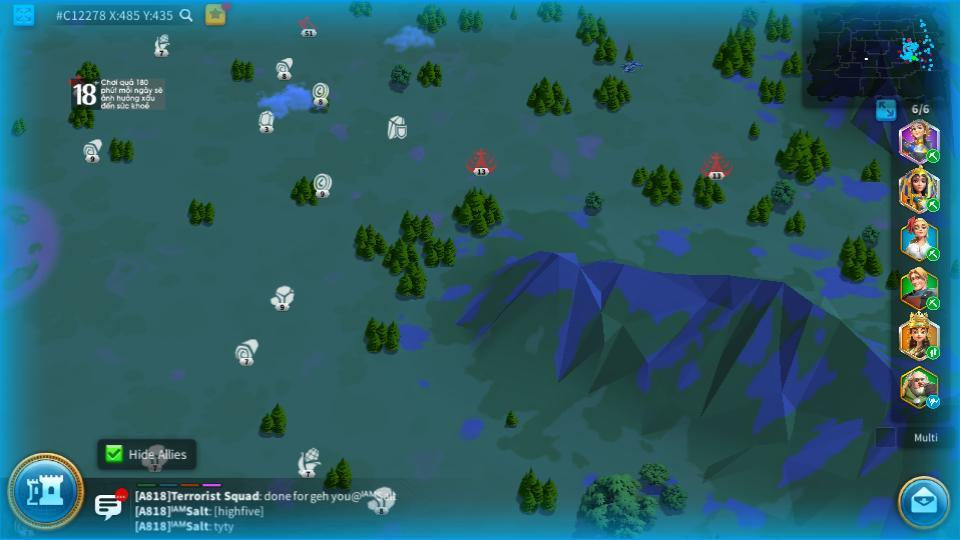march_farming: (924, 197, 939, 212), (925, 149, 941, 162)
march_idle: (925, 395, 942, 407)
march_marching: (925, 347, 941, 359), (925, 298, 941, 309)
